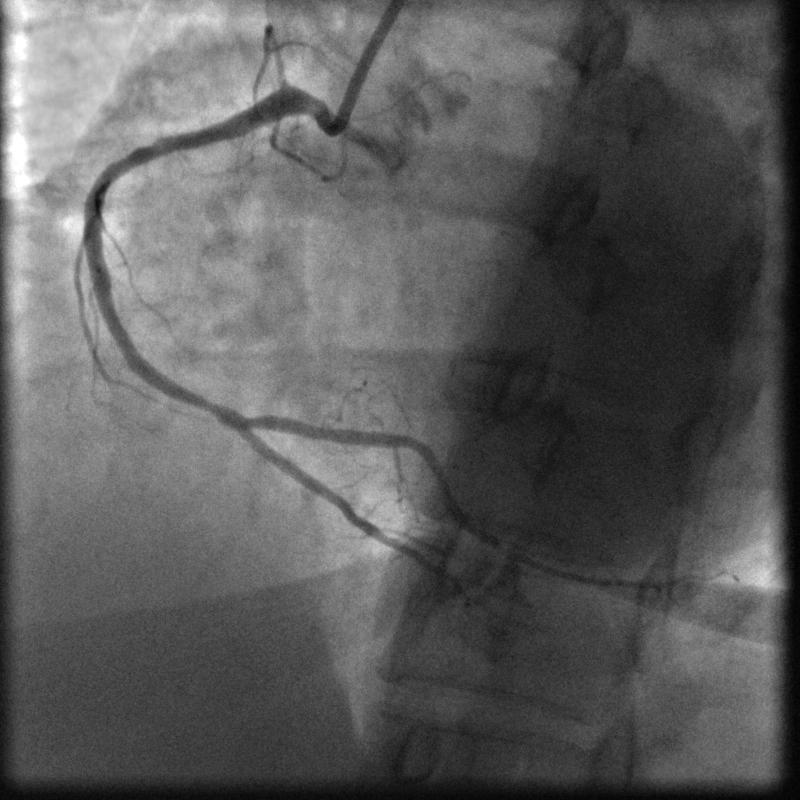Stenosis: (188, 379, 234, 434)
